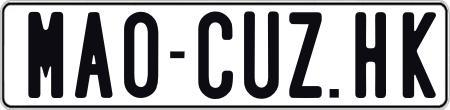0: (121, 9, 155, 97)
A: (75, 9, 112, 98)
C: (197, 10, 232, 100)
H: (355, 9, 387, 95)
K: (402, 10, 435, 96)
M: (28, 10, 66, 99)
U: (241, 8, 282, 101)
Z: (288, 10, 323, 97)
